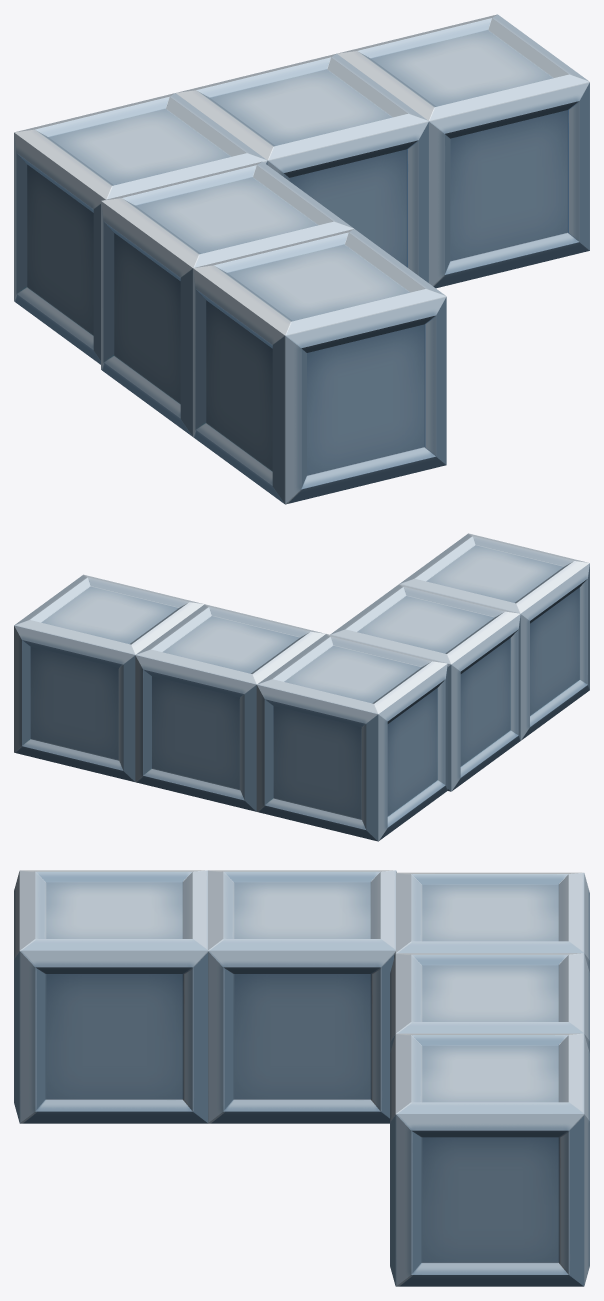
The model's file is PrototypeL3.fbx.
3 views of the same model, one above another, from view 1: azimuth 30°, elevation 25°; view 2: azimuth 150°, elevation 25°; view 3: azimuth 270°, elevation 25° (orthographic). The views are drawn at different scales.
Parts seen in each view (by area): view 1: polySurface1; view 2: polySurface1; view 3: polySurface1.
Boxes of the visible parts, x1=… form: polySurface1: x1=14, y1=14, x2=589, y2=504; polySurface1: x1=14, y1=533, x2=589, y2=841; polySurface1: x1=14, y1=870, x2=589, y2=1286.
Bounding box in the file's own units: 2.69 × 0.9244 × 2.63.
2 materials, 1 textured.
